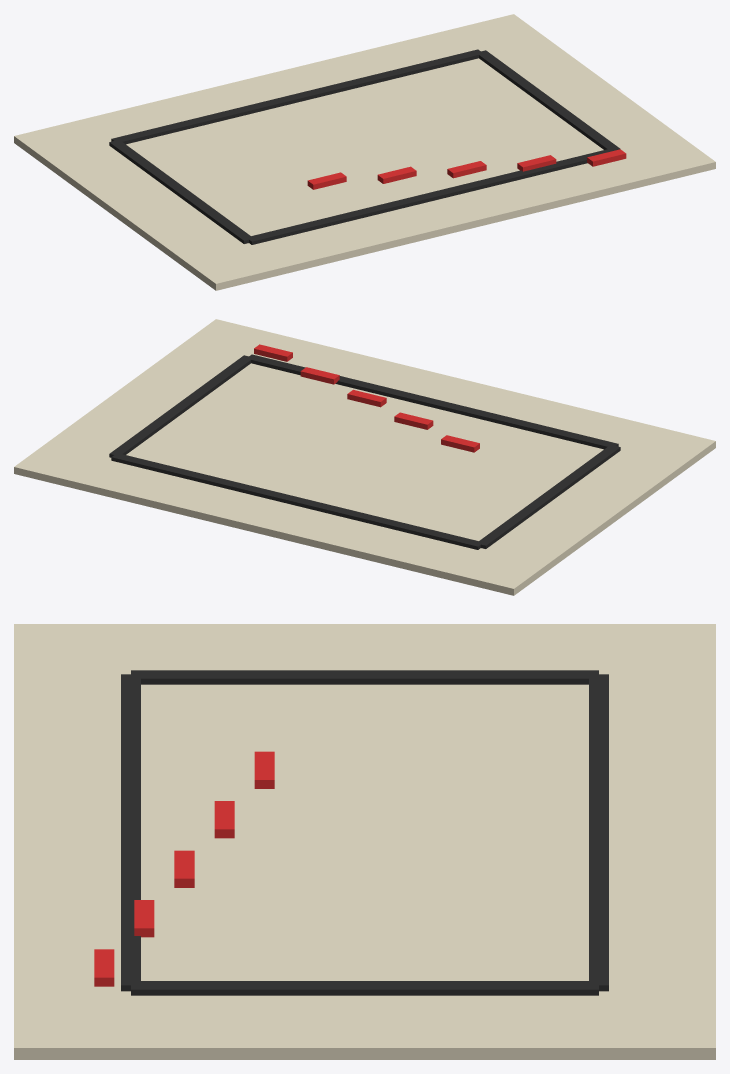
Rendered from prison_plan.glb.
3 views of the same model, one above another, from view 1: azimuth 30°, elevation 25°; view 2: azimuth 150°, elevation 25°; view 3: azimuth 270°, elevation 25° (orthographic). The views are drawn at different scales.
Visible parts, largest first — view 1: sheet_jail_paper, wall_jail_ink (×4); view 2: sheet_jail_paper, wall_jail_ink (×4); view 3: sheet_jail_paper, wall_jail_ink (×4), route_plan_red (×5).
Boxes of the visible parts, bbox=[...] form: sheet_jail_paper: bbox=[14, 14, 715, 290]; wall_jail_ink (×4): bbox=[109, 49, 620, 244]; sheet_jail_paper: bbox=[14, 319, 715, 595]; wall_jail_ink (×4): bbox=[109, 354, 620, 549]; sheet_jail_paper: bbox=[14, 624, 715, 1059]; wall_jail_ink (×4): bbox=[121, 670, 608, 995]; route_plan_red (×5): bbox=[94, 751, 274, 986].
Size of the model in its own units: 0.3 by 0.0085 by 0.21.
